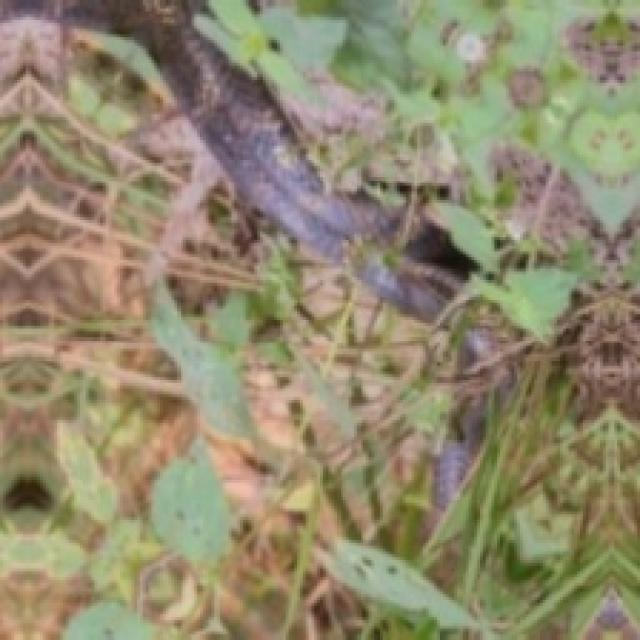king cobra: (0, 0, 514, 514)
